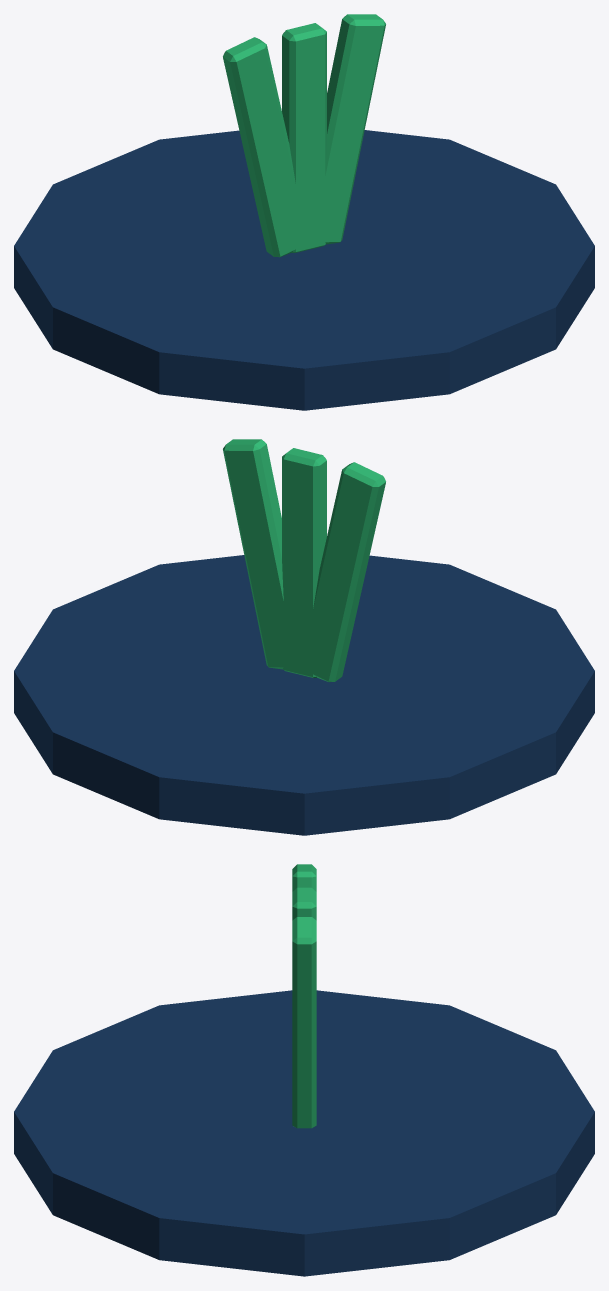
The model's file is Marker_Kelp_v001.fbx.
3 views of the same model, one above another, from view 1: azimuth 30°, elevation 25°; view 2: azimuth 150°, elevation 25°; view 3: azimuth 270°, elevation 25° (orthographic).
Parts seen in each view (by area): view 1: Marker, Kelp.002, Kelp, Kelp.001; view 2: Marker, Kelp.002, Kelp.001, Kelp; view 3: Marker, Kelp, Kelp.001, Kelp.002.
Boxes of the visible parts, x1,y1,x2,y2 form: Marker: (14, 130, 594, 410); Kelp.002: (223, 37, 308, 257); Kelp: (312, 14, 385, 244); Kelp.001: (282, 23, 326, 252); Marker: (14, 555, 594, 835); Kelp.002: (300, 462, 385, 682); Kelp.001: (282, 448, 326, 677); Kelp: (223, 439, 291, 669); Marker: (14, 990, 594, 1276); Kelp: (292, 917, 316, 1128); Kelp.001: (292, 887, 316, 920); Kelp.002: (292, 864, 316, 891).
Bounding box in the file's own units: 30 × 14.79 × 30.
